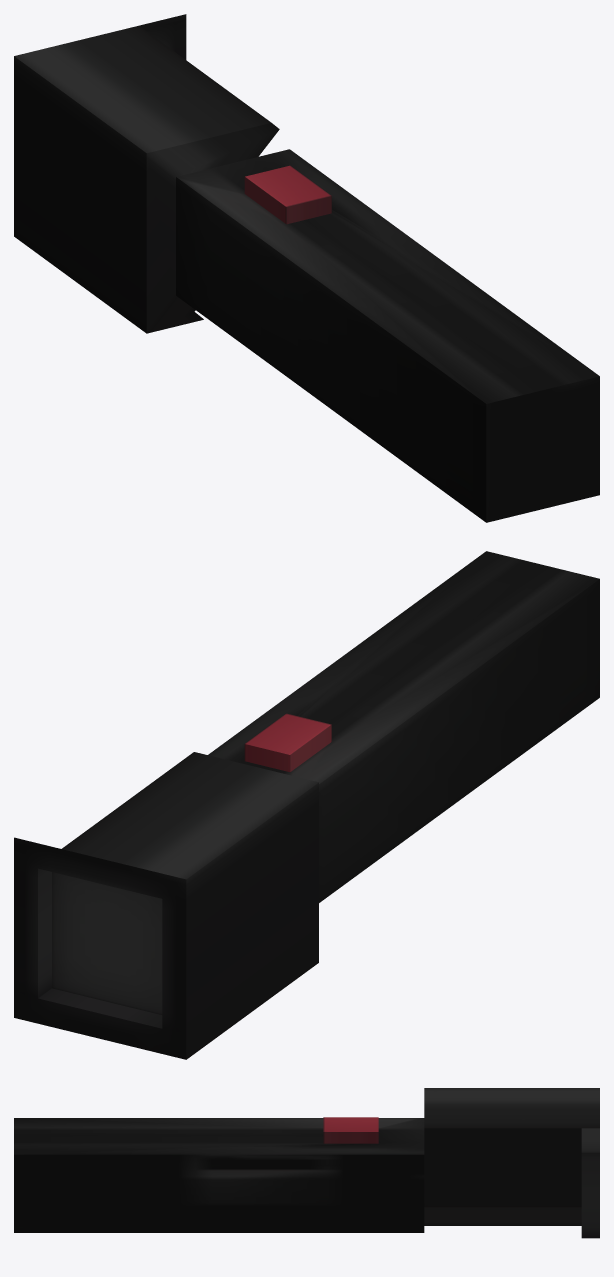
File: Flashlight.fbx
3 renders of one model, top to bottom at view 1: azimuth 30°, elevation 25°; view 2: azimuth 150°, elevation 25°; view 3: azimuth 270°, elevation 25°, orthographic. The views are drawn at different scales.
Parts seen in each view (by area): view 1: Flashlight; view 2: Flashlight; view 3: Flashlight.
Boxes of the visible parts, box(x1,y1,x2,y2) form: Flashlight: box(14, 14, 599, 522); Flashlight: box(14, 551, 599, 1059); Flashlight: box(14, 1088, 599, 1238).
Bounding box in the file's own units: 3.03 × 13.51 × 3.03.
Materials: 1 (1 with a texture image).
